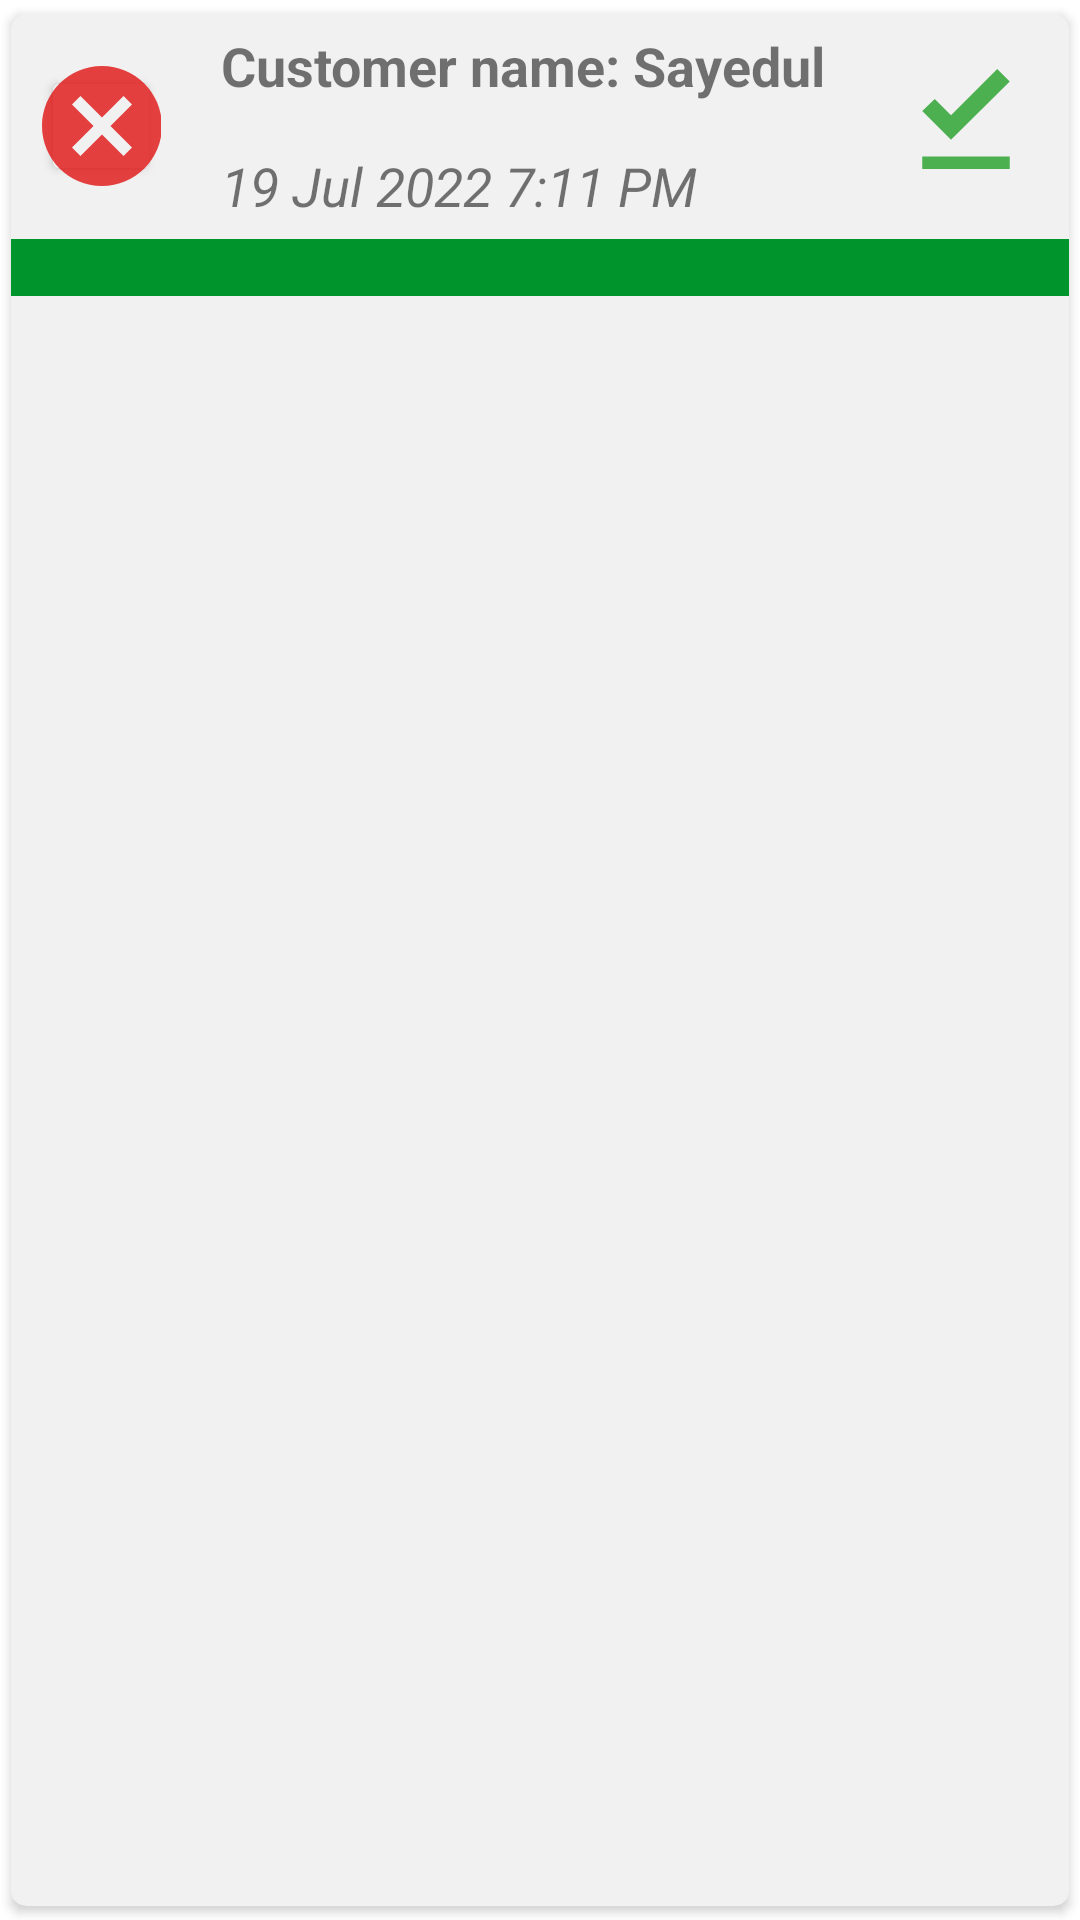

Icon bounding boxes for this 1080x1920 phone screenshot, format (x1, y1, x2, y2):
done: (922, 69, 1010, 169)
